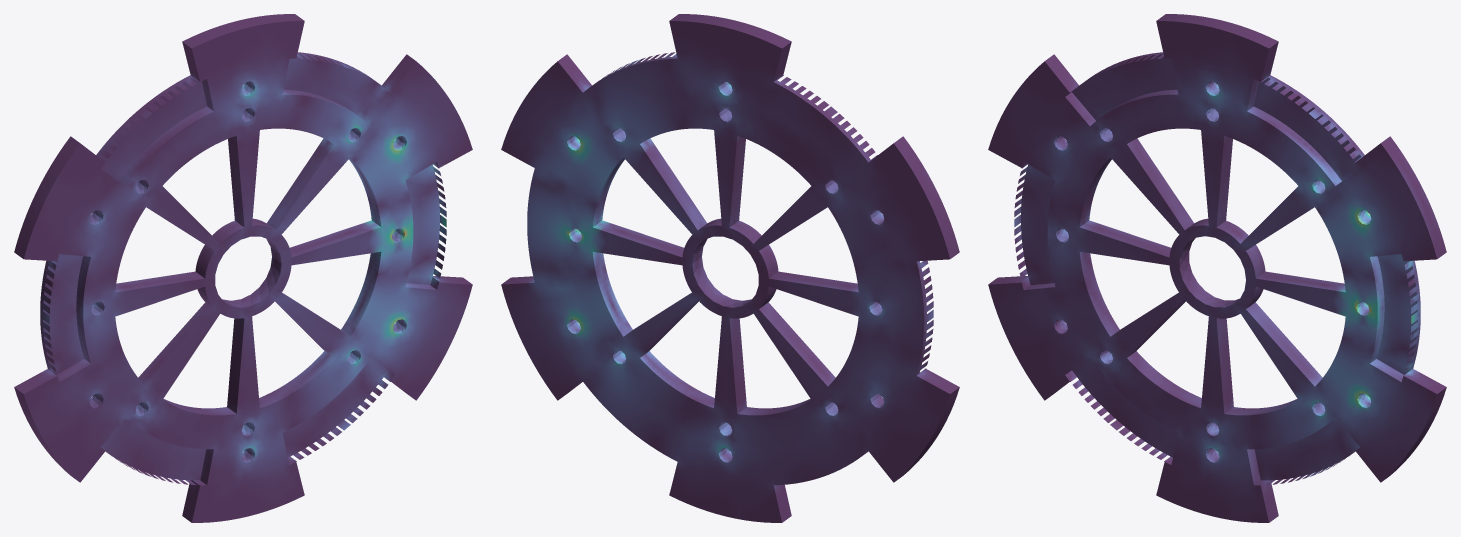
File: CAD_MP.glb
3 renders of one model, left to right at view 1: azimuth 30°, elevation 25°; view 2: azimuth 150°, elevation 25°; view 3: azimuth 330°, elevation 25°, orthographic.
Visible parts, largest first — view 1: geometry_0; view 2: geometry_0; view 3: geometry_0.
Boxes of the visible parts, bbox=[...] form: geometry_0: bbox=[14, 14, 472, 522]; geometry_0: bbox=[501, 14, 959, 522]; geometry_0: bbox=[988, 14, 1446, 522].
Size of the model in its own units: 0.2692 by 0.28 by 0.01.
